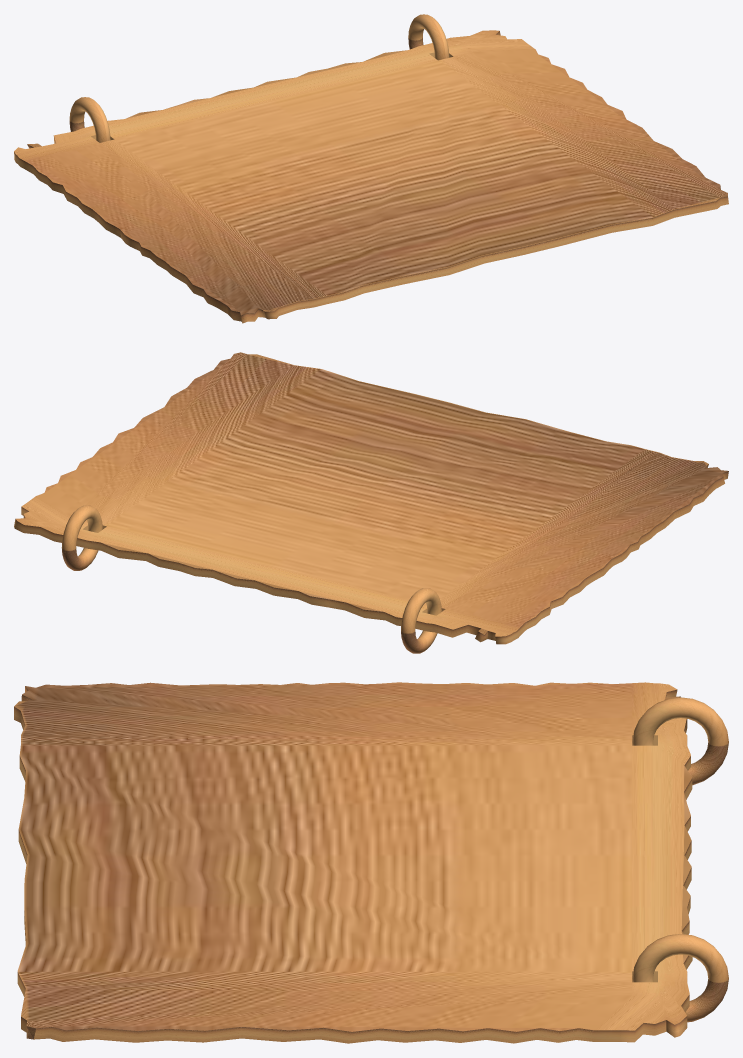
File: RoleSign.FBX
The picture shows the model from 3 angles, top to bottom: view 1: azimuth 30°, elevation 25°; view 2: azimuth 150°, elevation 25°; view 3: azimuth 270°, elevation 25°; orthographic projection. The views are drawn at different scales.
Visible parts, largest first — view 1: Box010; view 2: Box010; view 3: Box010.
Boxes of the visible parts, x1,y1,x2,y2 form: Box010: (14, 14, 728, 323); Box010: (14, 352, 728, 653); Box010: (14, 682, 728, 1043).
Size of the model in its own units: 123 by 14.33 by 106.
